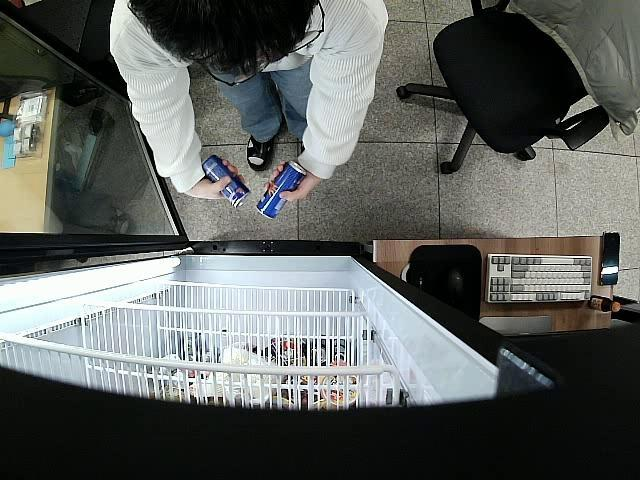16_hot6: (256, 163, 306, 221), (199, 154, 250, 210)
